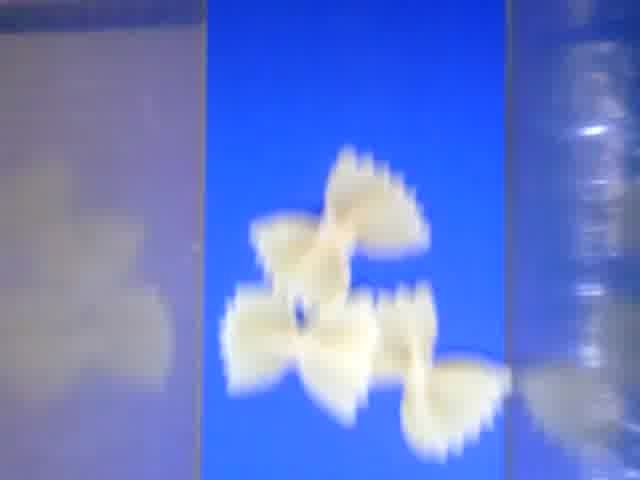farfalle: (253, 143, 437, 296), (369, 282, 512, 462), (225, 283, 376, 427)
